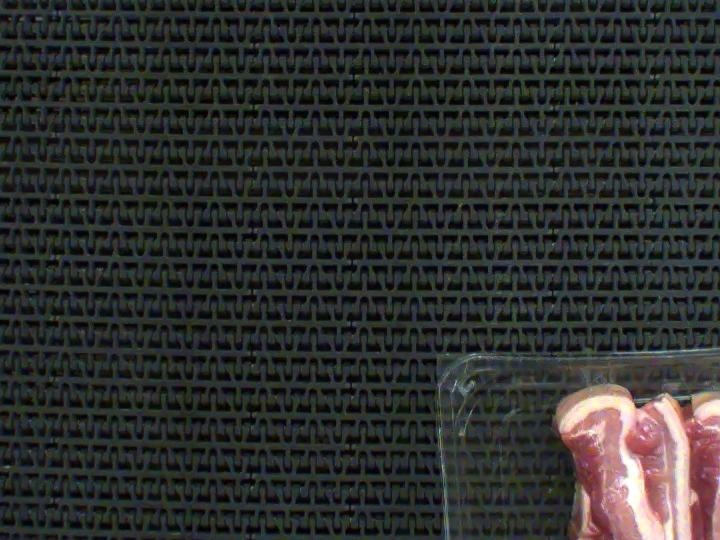packaging-error: (565, 333, 720, 420)
